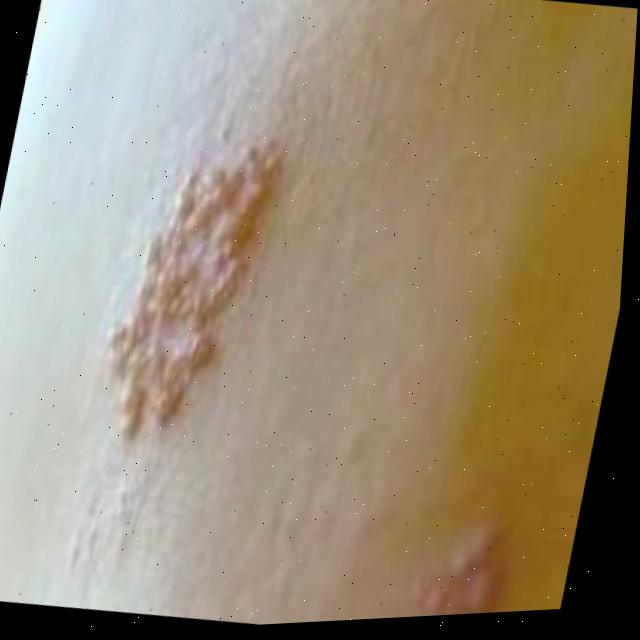Shingles: (73, 115, 296, 465), (392, 505, 533, 618)
